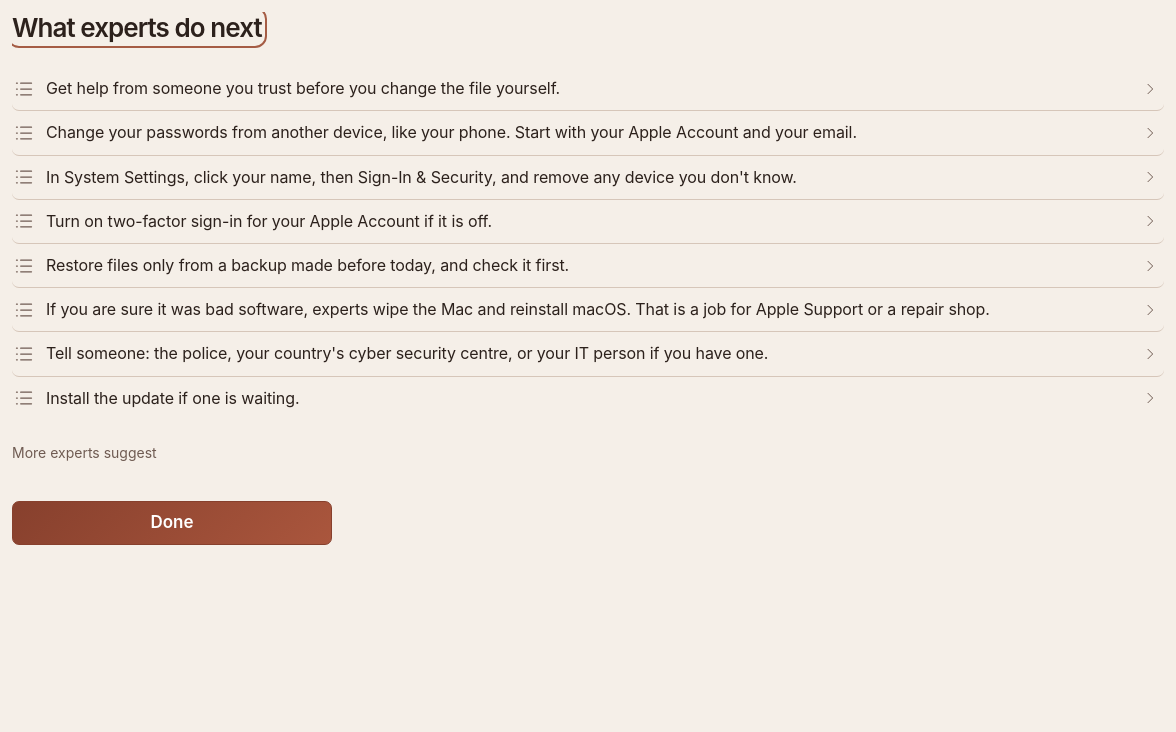
ExpertsScreen with the lead rows › draws the get-help row first for a shell item, with no pane button
Click the button with aria-label "Get help from someone you trust before you change the file y" at (303, 88), box x1=12 y1=67 x2=1164 y2=111
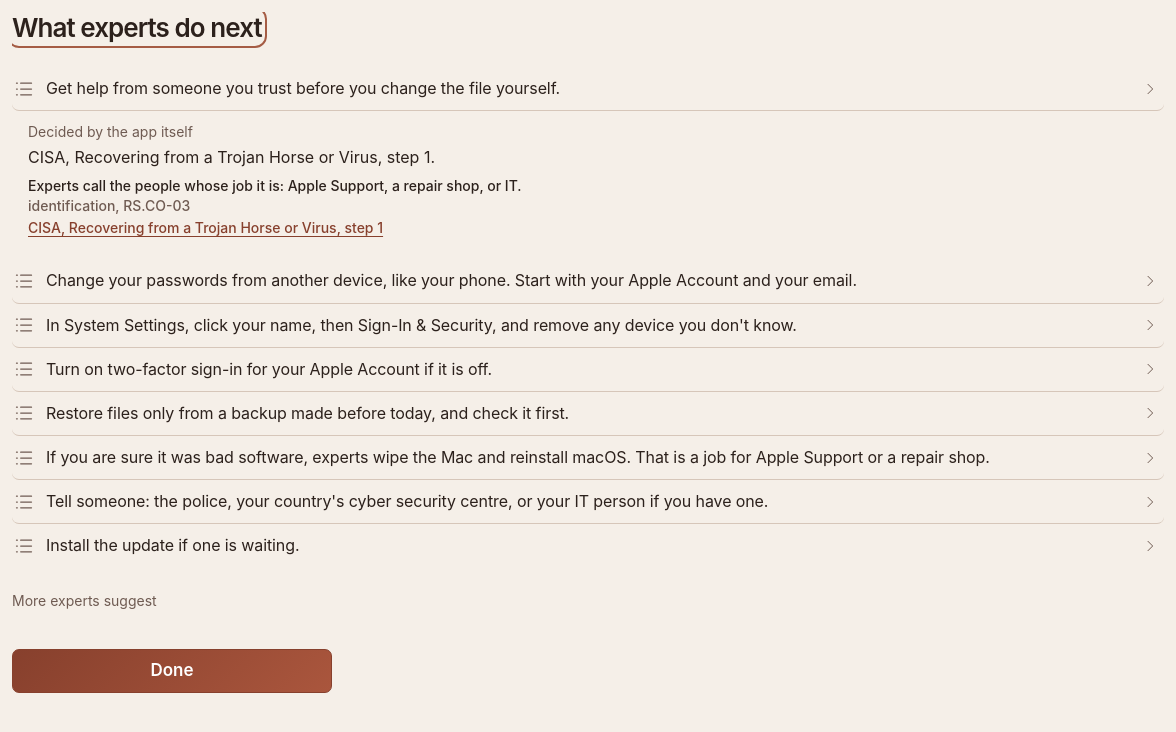
Result: the element with class "fishy-details" shows "CISA, Recovering from a Trojan Horse or Virus, step 1." at x1=28 y1=147 x2=435 y2=167
